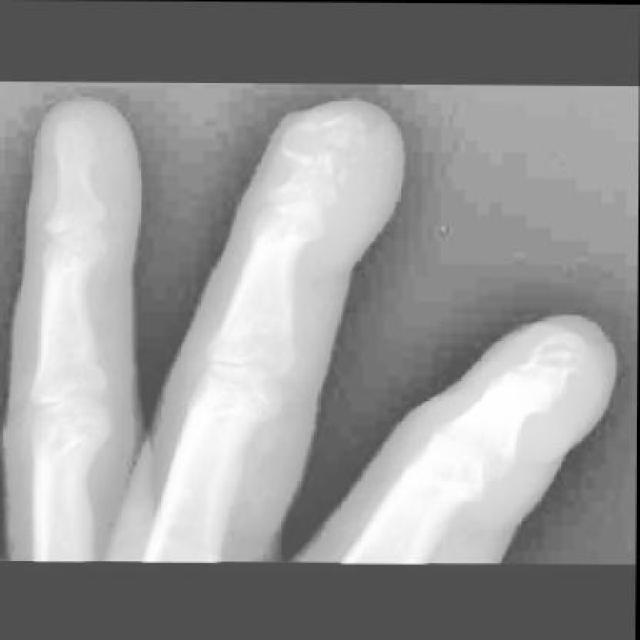Fracture: (280, 100, 378, 187), (526, 325, 594, 395), (54, 109, 101, 171)
